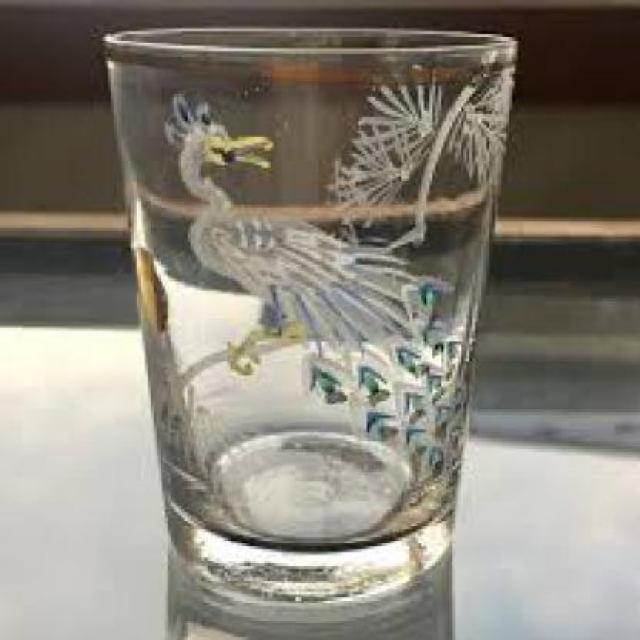kaca: (100, 26, 515, 609)
